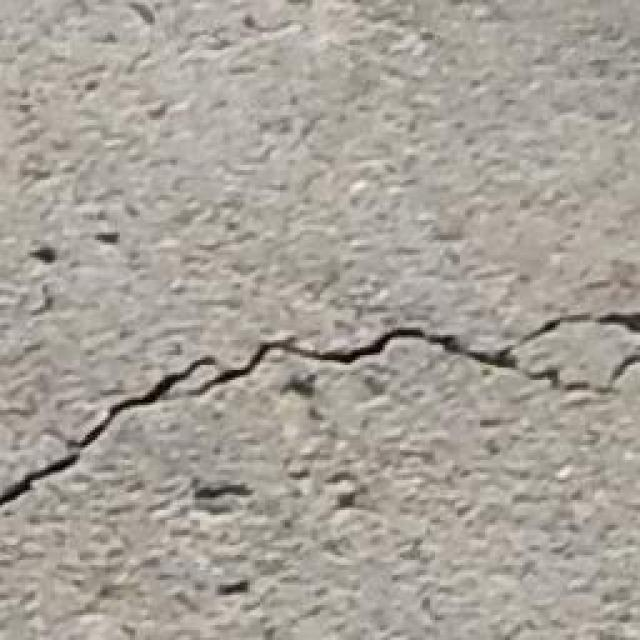concrete-crack: (4, 309, 639, 512)
